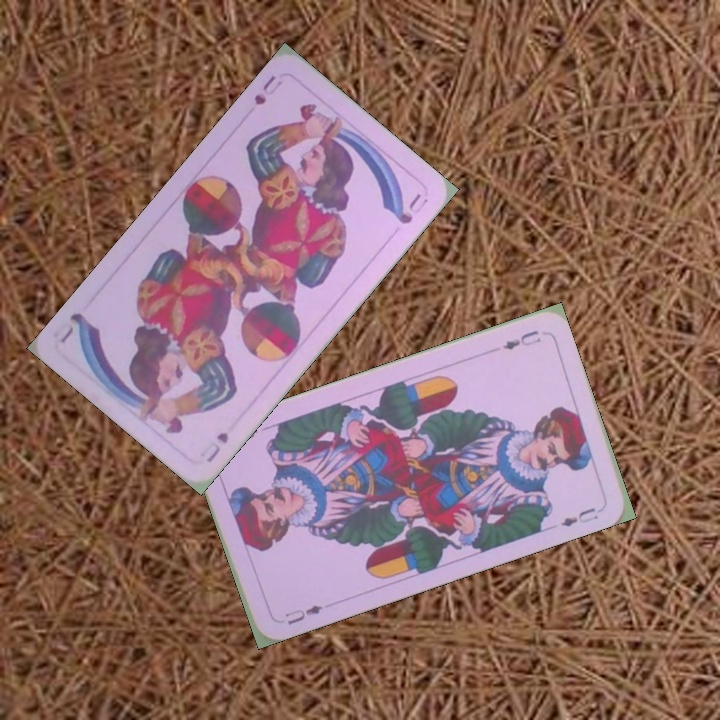EU: (498, 326, 544, 353), (281, 600, 325, 628)
SU: (249, 71, 286, 108), (202, 428, 232, 465)
